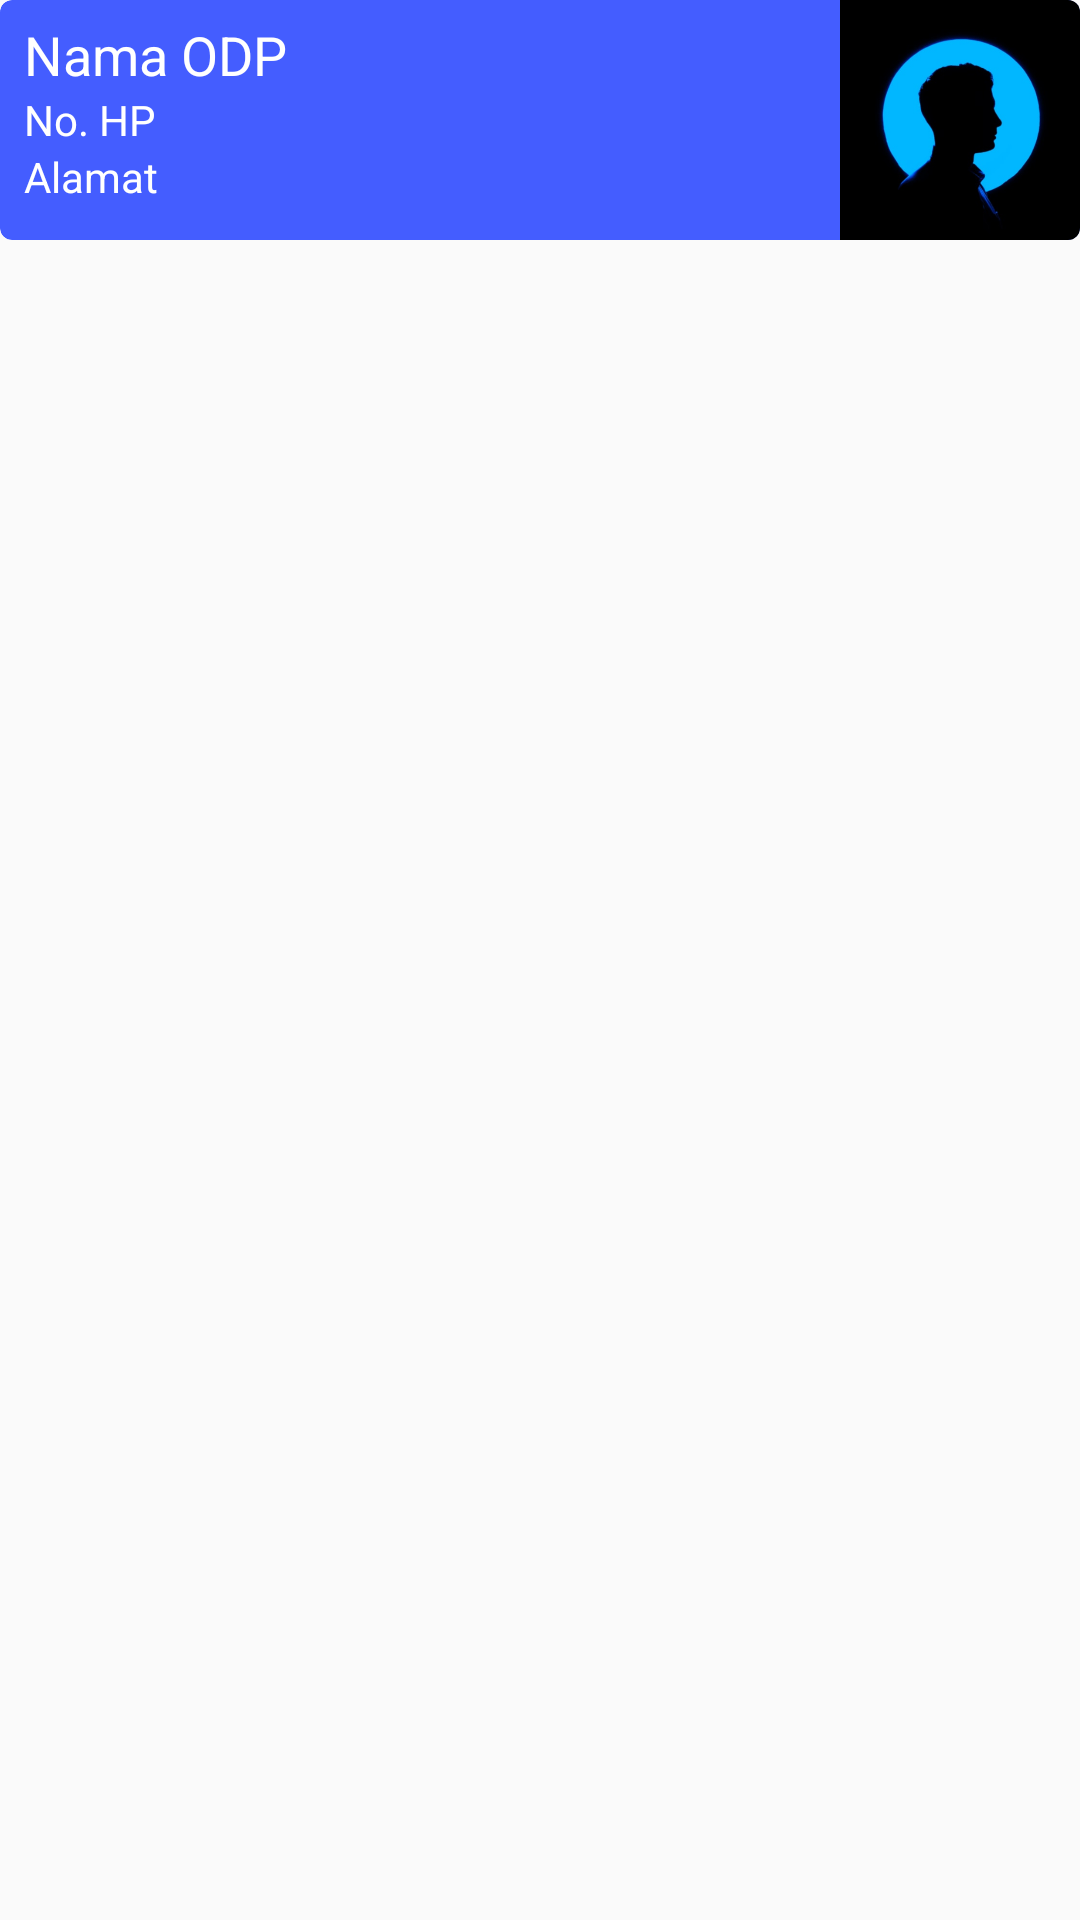

Icon click points for this 1080 x 1920 phone screenshot, format [x,y]:
fotoprofilkosong: [960,120]
